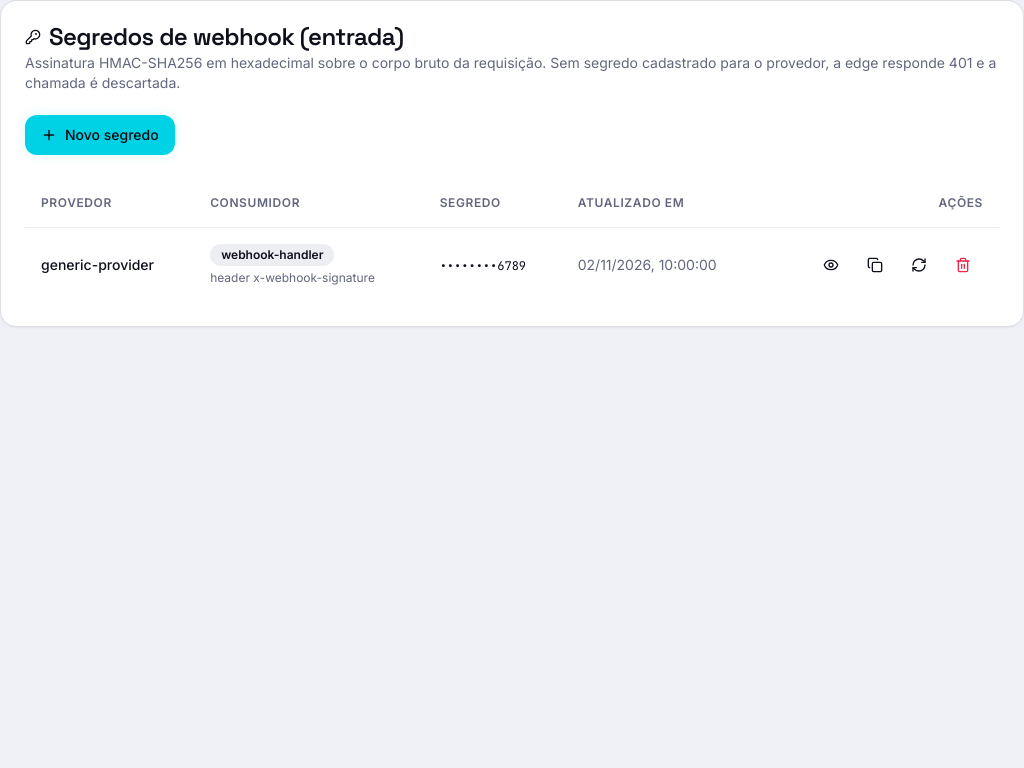
Test case: WebhookSecretsCard › rotaciona mantendo o provedor travado
This screenshot has width=1024, height=768.
Later steps or results of the test are not shown.
Step 1. Click the button named "Rotacionar segredo de generic-provider" → [919, 264], box [899,244,939,284]
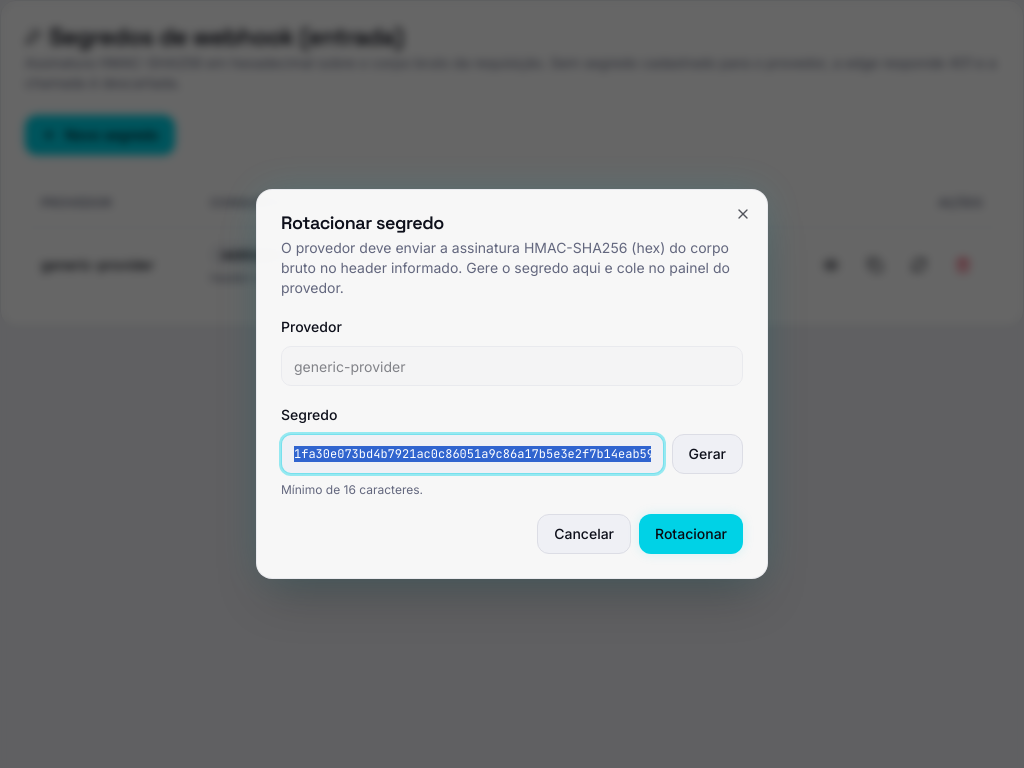
Expected: the field named "Provedor do webhook" holds "generic-provider", [281,346,743,386]
Expected: the field named "Provedor do webhook" is disabled, [281,346,743,386]
